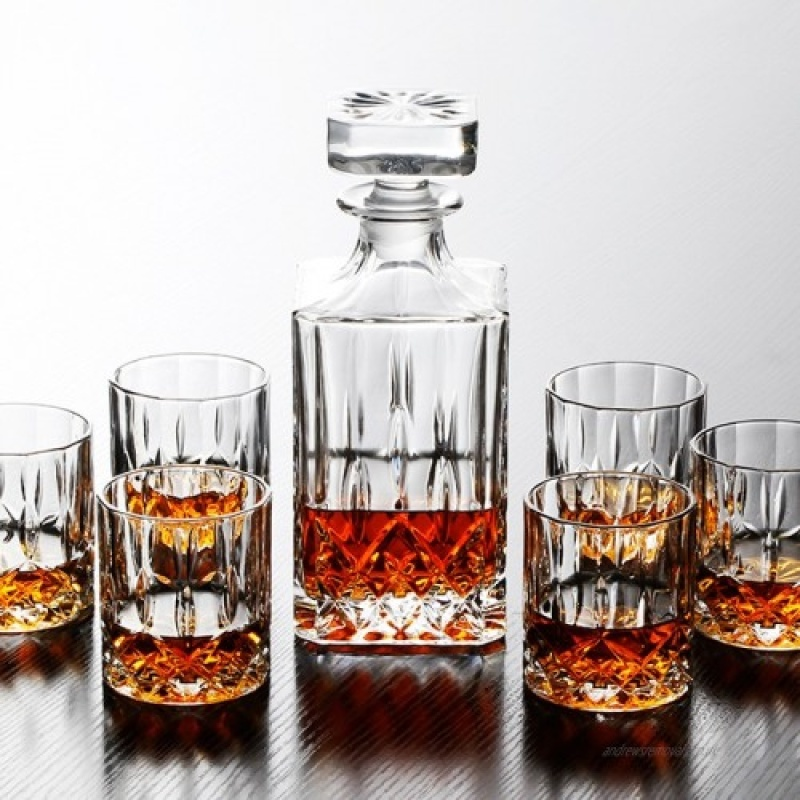whiskey: (97, 470, 277, 703), (531, 475, 699, 710), (691, 424, 800, 657)
